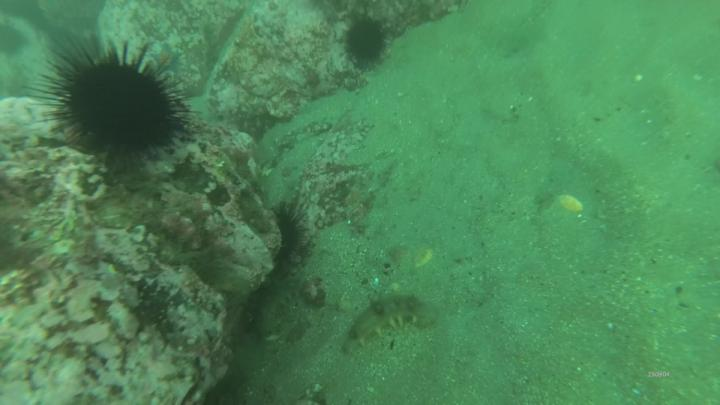echinus: (57, 51, 181, 169), (344, 14, 388, 70), (270, 202, 307, 267)
holothurian: (340, 291, 438, 347)
